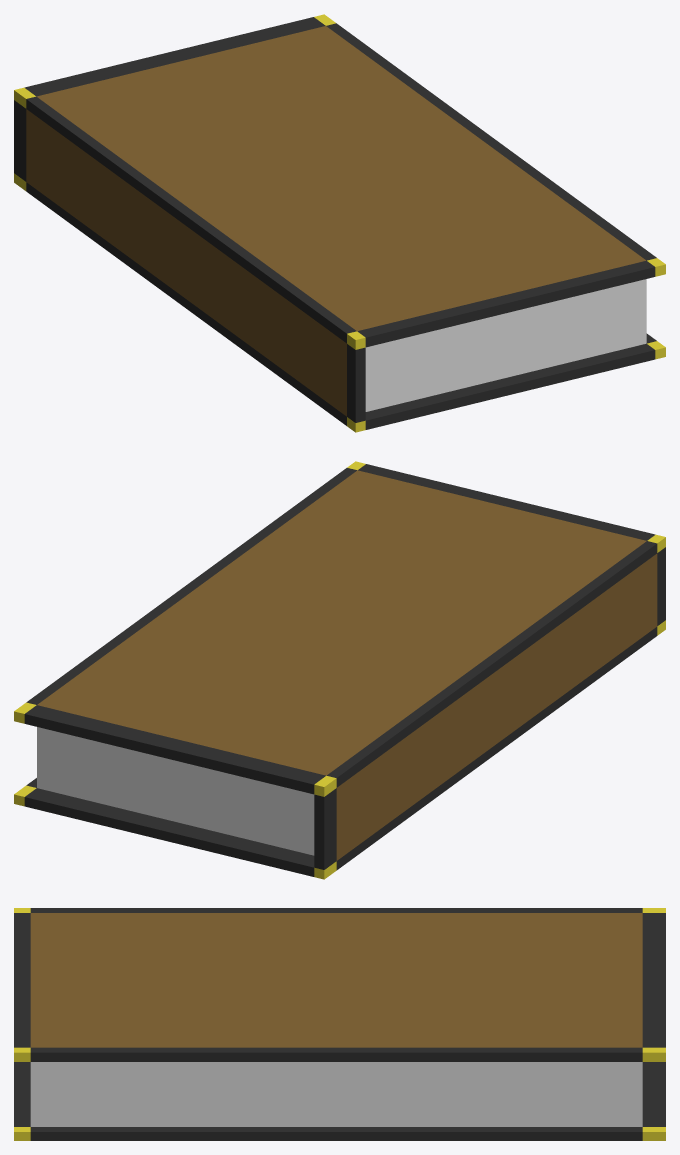
Rendered from libro.fbx.
The picture shows the model from 3 angles, top to bottom: view 1: azimuth 30°, elevation 25°; view 2: azimuth 150°, elevation 25°; view 3: azimuth 270°, elevation 25°; orthographic projection. The views are drawn at different scales.
Visible parts, largest first — view 1: Cube; view 2: Cube; view 3: Cube.
Boxes of the visible parts, x1,y1,x2,y2 form: Cube: (14, 14, 665, 432); Cube: (14, 461, 665, 879); Cube: (14, 908, 665, 1140).
Size of the model in its own units: 214 by 61.06 by 409.
